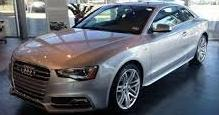Cars: (12, 5, 209, 113)
